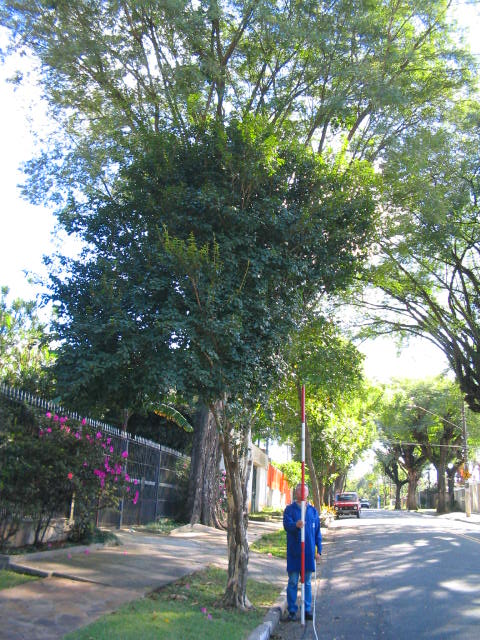crown: (45, 101, 379, 418)
stem: (205, 422, 273, 609)
stick: (294, 385, 312, 625)
tree: (41, 97, 383, 609)
